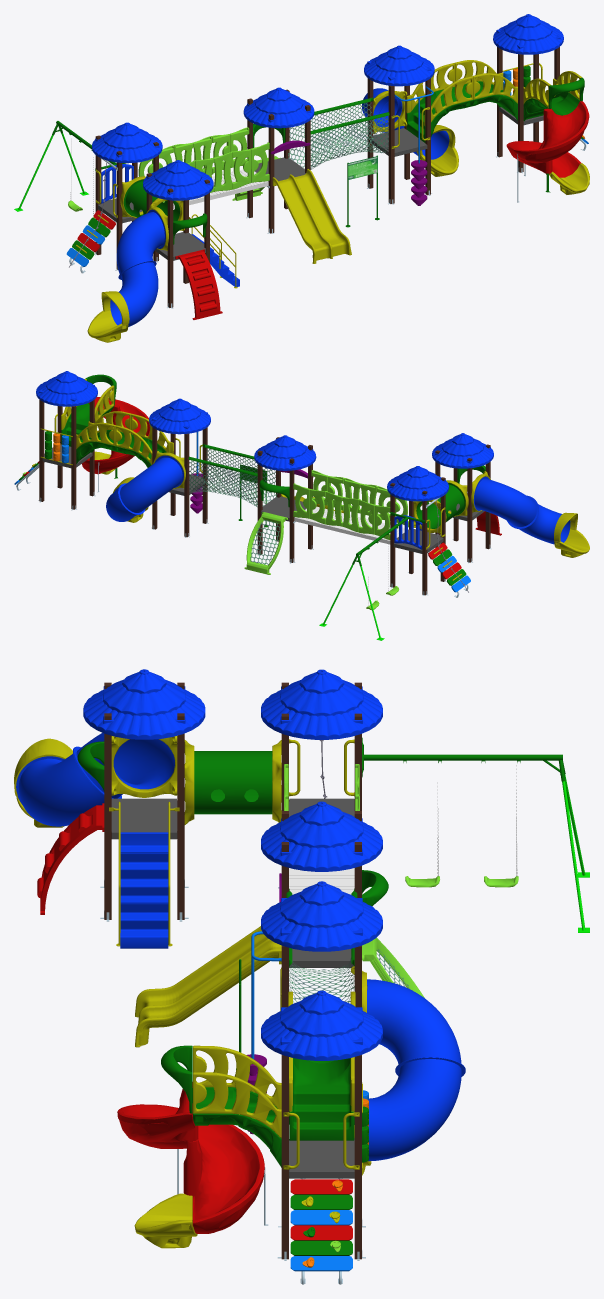
3 renders of one model, top to bottom at view 1: azimuth 30°, elevation 25°; view 2: azimuth 150°, elevation 25°; view 3: azimuth 270°, elevation 25°, orthographic. The views are drawn at different scales.
Parts seen in each view (by area): view 1: object 6, object 41, TOLDO M2, TOLDO M2.004, DUTO TOBOGA M3 LADO B, TOLDO M2.002, TOLDO M2.001, TOLDO M2.003, DUTO TOBOGA M3 LADO A, object 61, object 44, PLATAFORMA M1.002 (+28 smaller); view 2: object 6, object 41, object 44, DUTO TOBOGA M3 LADO B.001, DUTO TOBOGA M3 LADO B, TOLDO M2.004, TOLDO M2, TOLDO M2.002, TOLDO M2.001, TOLDO M2.003, object 61, DUTO TOBOGA M3 LADO A (+28 smaller); view 3: object 6, object 61, DUTO TOBOGA M3 LADO A.001, TOLDO M2.004, TOLDO M2, TOLDO M2.002, TOLDO M2.001, TOLDO M2.003, DUTO TOBOGA M3 LADO B.001, DUTO TOBOGA M3 LADO A, DUTO TOBOGA M3 LADO B, RAMPA DE AGARRA.001 (+18 smaller).
Boxes of the visible parts, x1,y1,x2,y2 form: object 6: [52, 77, 589, 319]; object 41: [288, 102, 388, 169]; TOLDO M2: [364, 45, 434, 86]; TOLDO M2.004: [493, 14, 563, 54]; DUTO TOBOGA M3 LADO B: [116, 209, 165, 278]; TOLDO M2.002: [143, 160, 213, 200]; TOLDO M2.001: [92, 122, 162, 163]; TOLDO M2.003: [243, 87, 314, 128]; DUTO TOBOGA M3 LADO A: [110, 261, 158, 326]; object 61: [69, 160, 239, 288]; object 44: [173, 136, 280, 200]; PLATAFORMA M1.002: [370, 128, 427, 156]; object 6: [61, 374, 501, 566]; object 41: [189, 448, 279, 564]; object 44: [244, 478, 376, 574]; DUTO TOBOGA M3 LADO B.001: [118, 455, 183, 514]; DUTO TOBOGA M3 LADO B: [473, 476, 538, 528]; TOLDO M2.004: [36, 371, 97, 406]; TOLDO M2: [149, 398, 210, 434]; TOLDO M2.002: [432, 433, 493, 468]; TOLDO M2.001: [387, 466, 448, 501]; TOLDO M2.003: [254, 435, 316, 470]; object 61: [394, 480, 468, 592]; DUTO TOBOGA M3 LADO A: [519, 495, 570, 544]; object 6: [37, 737, 565, 1248]; object 61: [109, 740, 327, 948]; DUTO TOBOGA M3 LADO A.001: [368, 1057, 465, 1161]; TOLDO M2.004: [261, 990, 382, 1060]; TOLDO M2: [261, 881, 382, 951]; TOLDO M2.002: [83, 669, 205, 739]; TOLDO M2.001: [261, 669, 382, 739]; TOLDO M2.003: [261, 801, 382, 871]; DUTO TOBOGA M3 LADO B.001: [367, 979, 465, 1076]; DUTO TOBOGA M3 LADO A: [16, 747, 104, 826]; DUTO TOBOGA M3 LADO B: [73, 733, 174, 798]; RAMPA DE AGARRA.001: [290, 1178, 352, 1284].
Size of the model in its own units: 14.23 by 3.46 by 7.19.
Materials: 26 (3 with a texture image).
